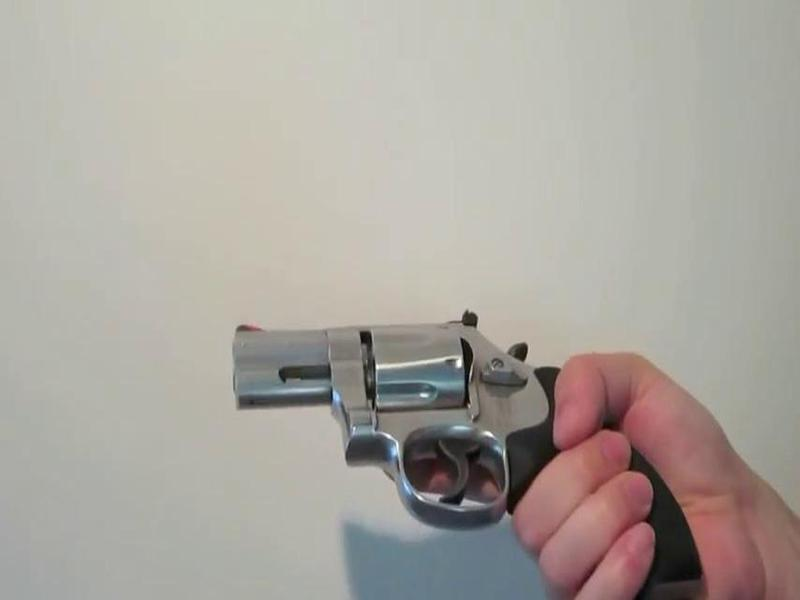Revolver: (195, 294, 660, 553)
